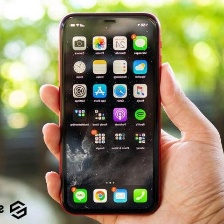phone: (57, 8, 163, 218)
